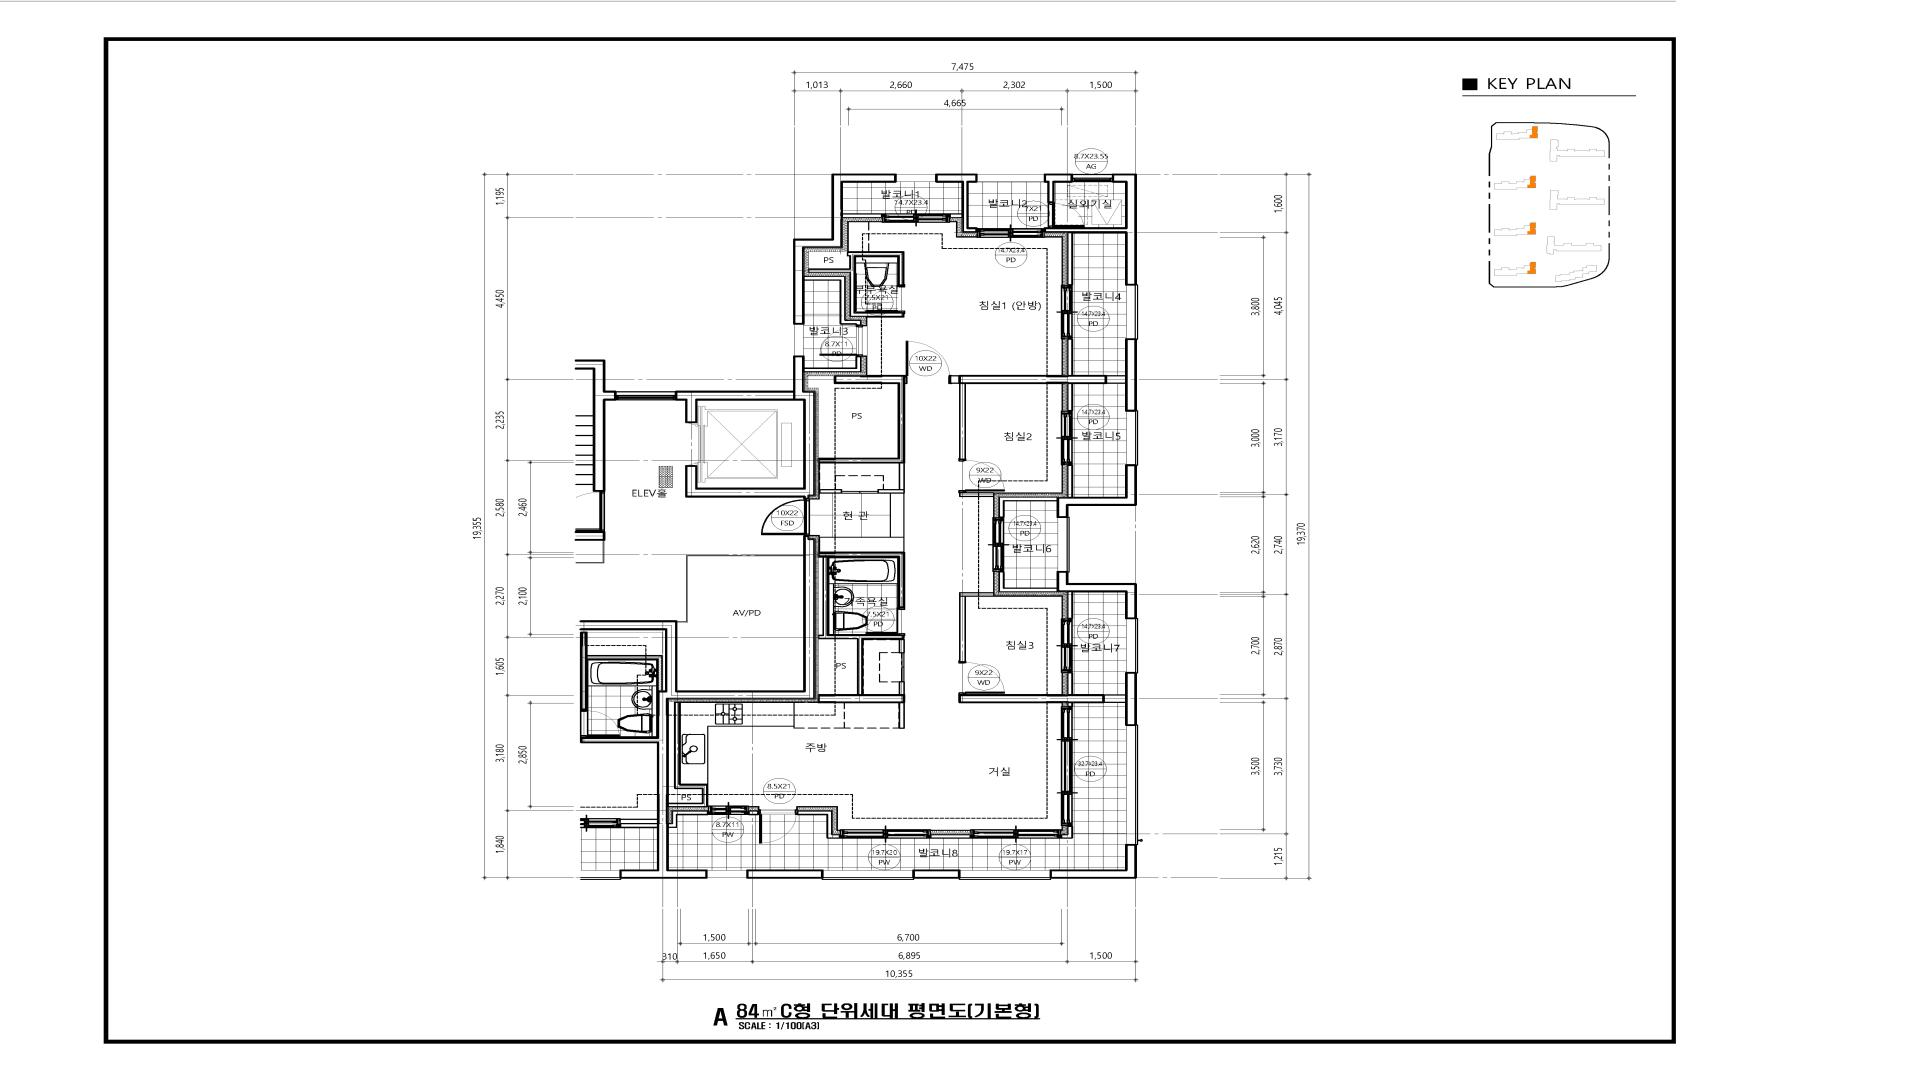background: (0, 0, 1920, 1080)
door: (905, 340, 951, 384), (760, 499, 810, 536), (958, 458, 1005, 492), (958, 661, 1005, 694), (819, 326, 863, 357), (759, 809, 797, 844), (865, 285, 905, 313), (865, 608, 905, 635), (1048, 202, 1085, 227), (901, 653, 905, 681), (842, 491, 877, 494), (728, 555, 754, 556)
wall: (657, 536, 816, 879), (950, 339, 1125, 458), (676, 356, 816, 499), (817, 552, 905, 729), (793, 174, 896, 324), (817, 375, 905, 494), (1044, 173, 1137, 285), (808, 251, 904, 318), (958, 673, 1125, 707), (575, 360, 616, 492), (1056, 465, 1137, 517), (669, 702, 708, 808), (1057, 572, 1137, 619), (677, 555, 728, 623), (804, 276, 862, 326), (1050, 845, 1137, 878), (936, 174, 977, 233), (959, 592, 994, 661), (797, 810, 840, 839), (998, 496, 1057, 517), (998, 572, 1057, 592), (805, 357, 862, 373), (1125, 339, 1137, 411), (1044, 174, 1072, 203), (747, 869, 823, 879), (669, 810, 708, 828), (1125, 673, 1137, 726), (913, 869, 960, 879), (1067, 233, 1073, 285), (575, 531, 606, 541), (930, 834, 971, 839), (843, 213, 882, 218), (1067, 465, 1073, 497), (959, 492, 994, 497), (1060, 826, 1073, 839), (1067, 592, 1073, 619), (818, 489, 842, 494), (748, 810, 759, 815), (950, 213, 961, 218), (754, 555, 803, 556)
window: (1061, 707, 1073, 826), (1126, 726, 1138, 845), (970, 829, 1060, 839), (840, 829, 930, 839), (960, 870, 1050, 880), (823, 870, 913, 880), (1057, 517, 1070, 572), (882, 213, 950, 223), (977, 228, 1044, 238), (992, 517, 1004, 572), (1061, 285, 1073, 339), (1061, 411, 1073, 465), (1061, 619, 1073, 673), (1126, 619, 1138, 673), (1126, 411, 1138, 465), (1126, 286, 1138, 339), (616, 391, 676, 400), (977, 174, 1044, 182), (708, 805, 748, 815), (1072, 174, 1112, 182), (707, 870, 747, 878), (896, 174, 936, 182), (794, 324, 803, 356)
